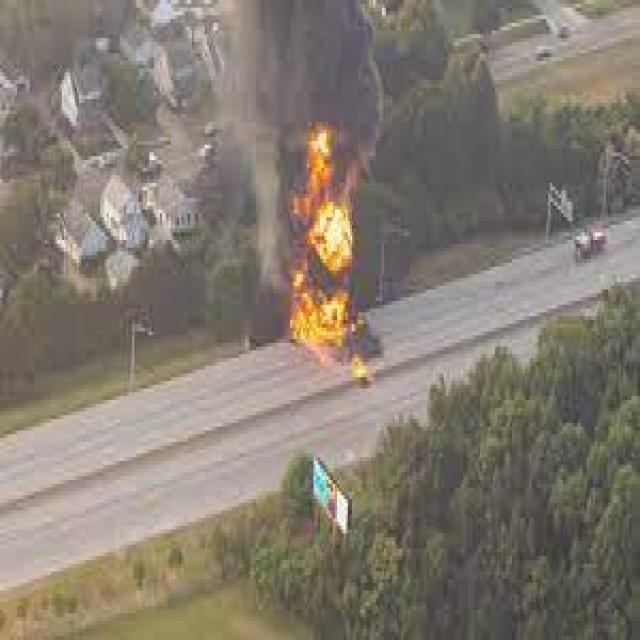fire: (288, 122, 350, 358)
smoke: (220, 4, 388, 362)
